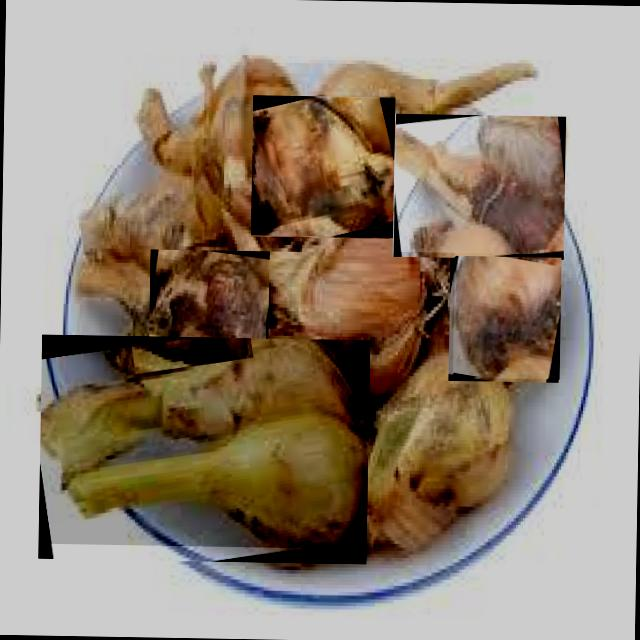healthy: (40, 338, 367, 548)
rotten: (395, 115, 564, 253), (252, 97, 394, 228), (454, 216, 560, 377), (151, 250, 265, 366)
